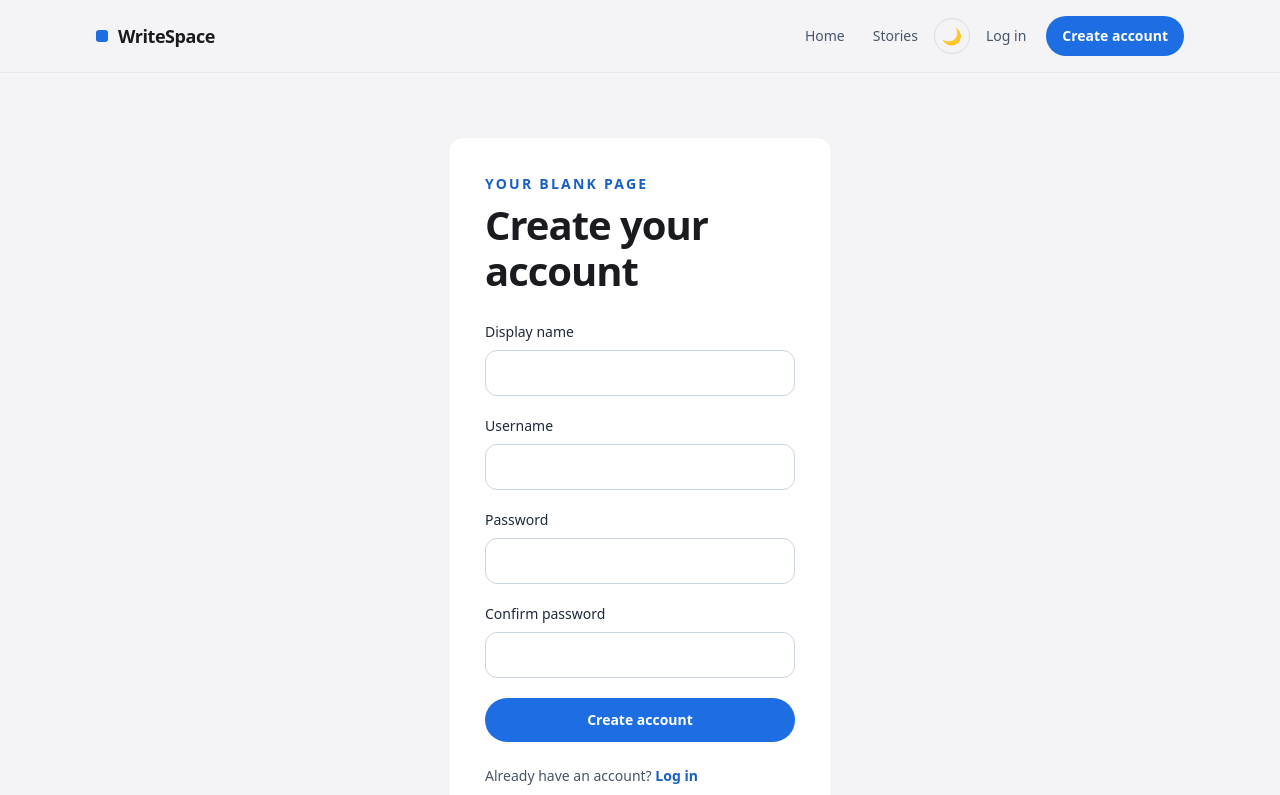
Test: access pages › shows matching-password validation when registration passwords differ
The width and height of the screenshot is (1280, 795).
Type "Ada" into the field labelled "Display name" at (640, 373), box left=485, top=350, right=795, bottom=396
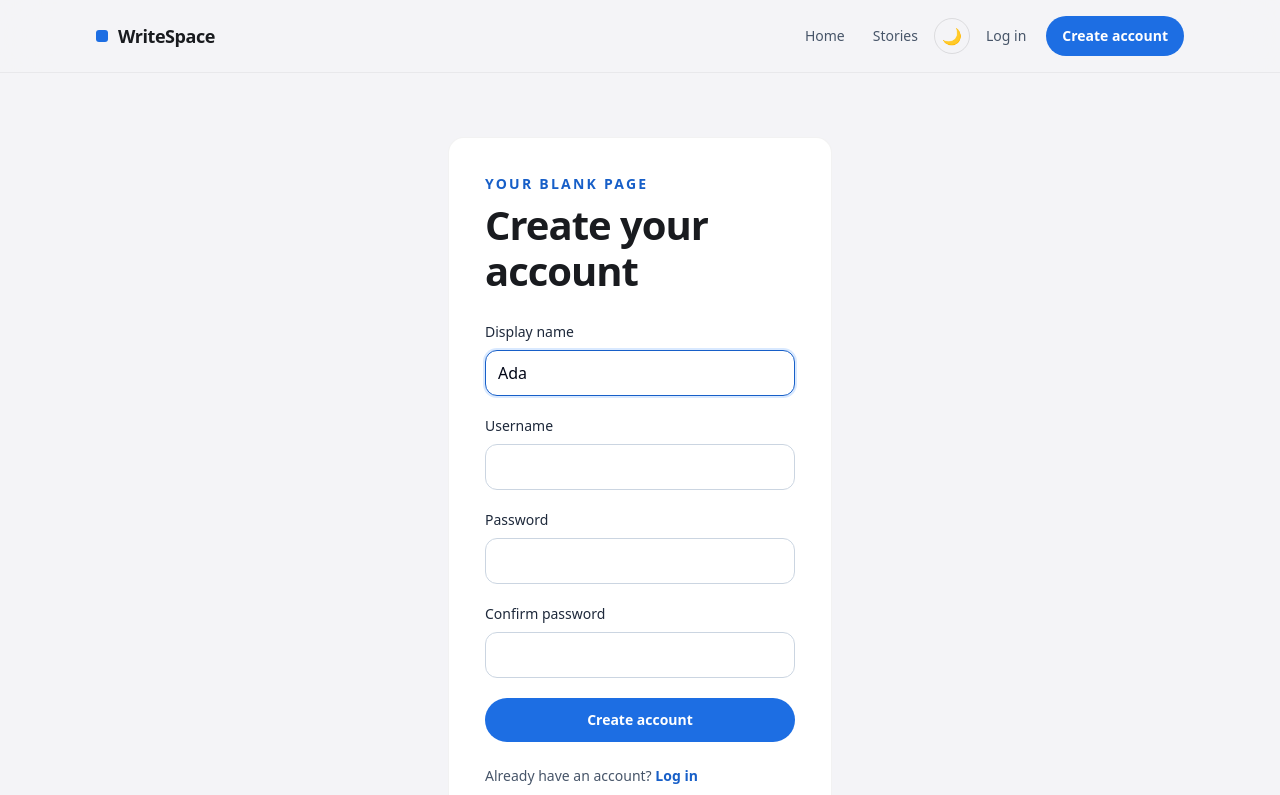
Type "ada" into the field labelled "Username" at (640, 467), box left=485, top=444, right=795, bottom=490
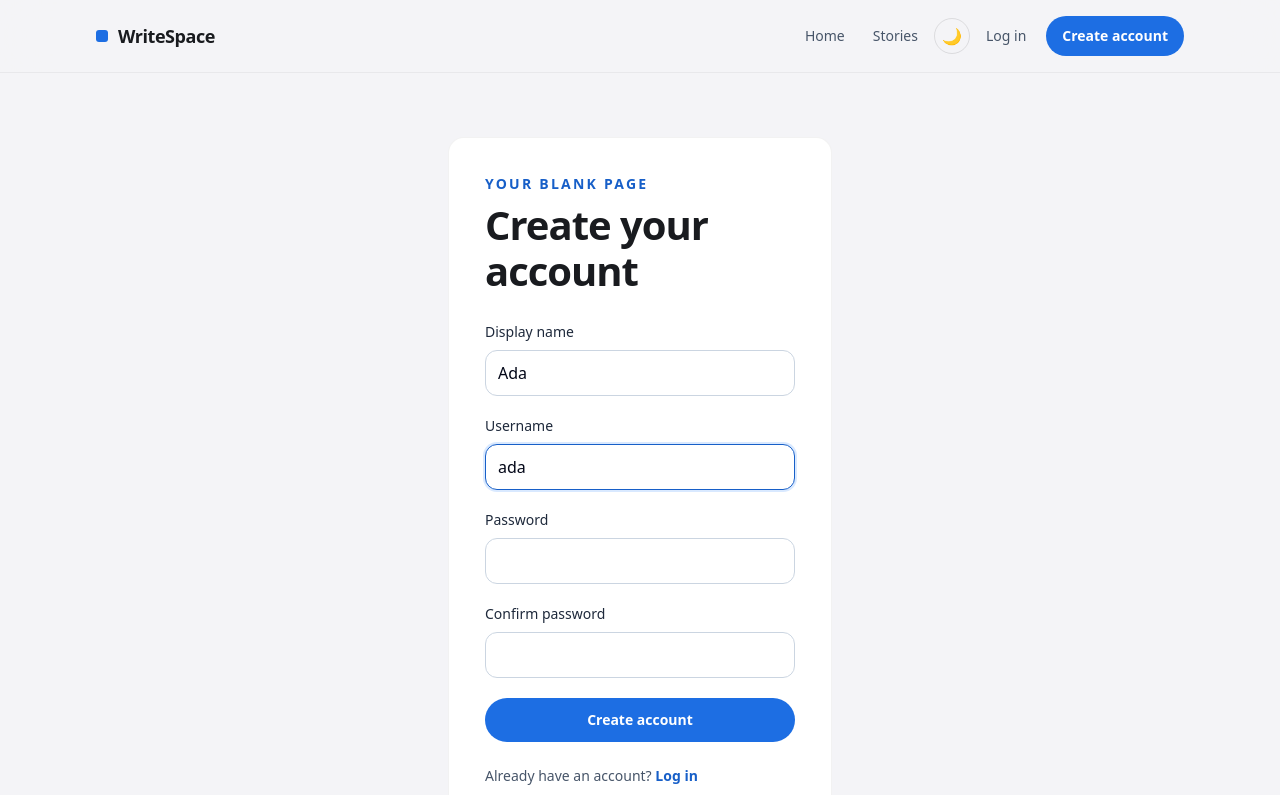
Type "one" into the password field labelled "Password" at (640, 561), box left=485, top=538, right=795, bottom=584
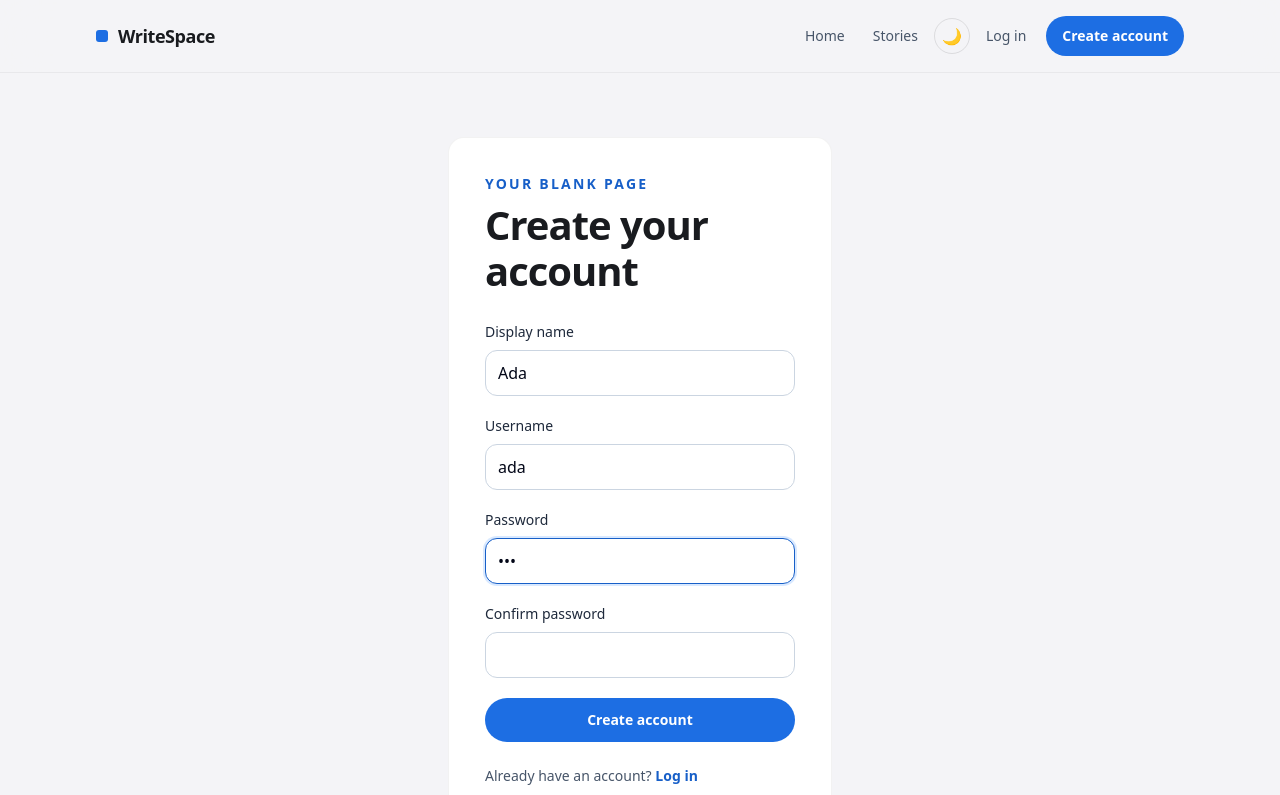
Type "two" into the password field labelled "Confirm password" at (640, 655), box left=485, top=632, right=795, bottom=678
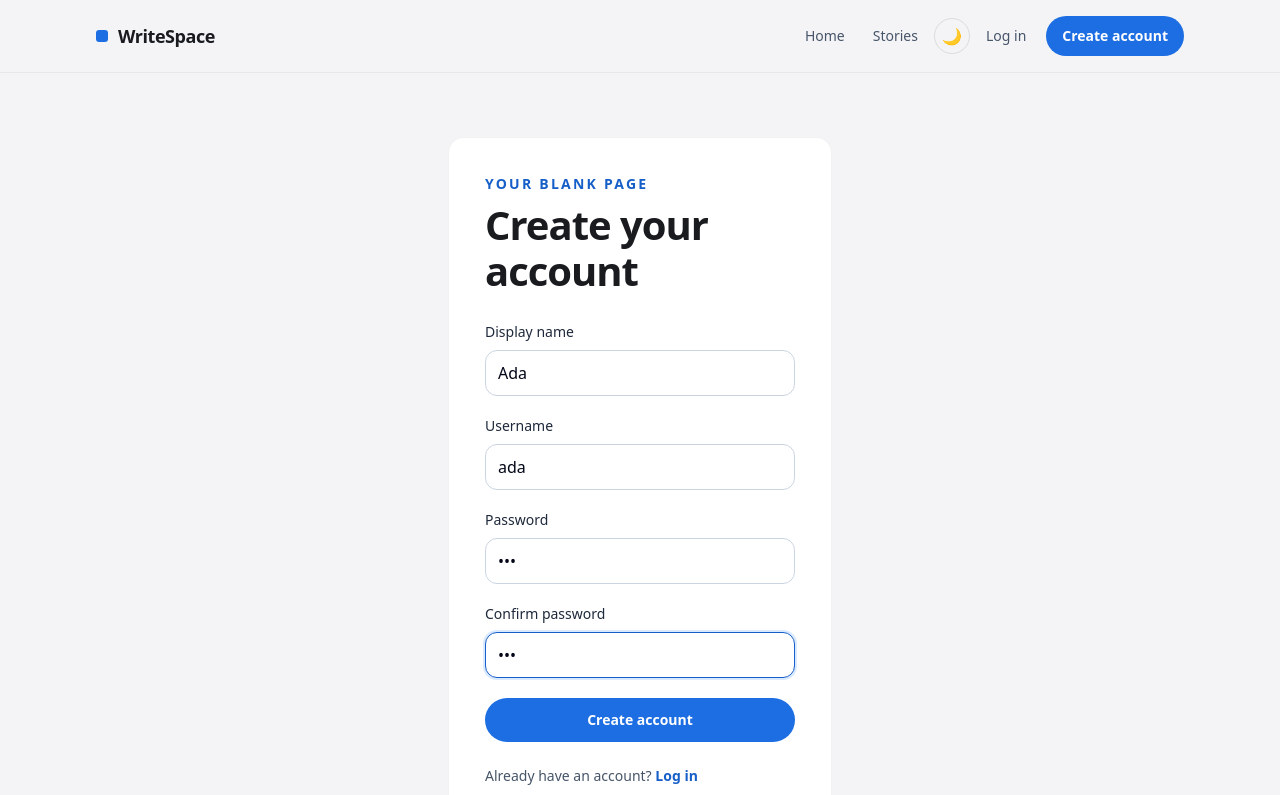
Click the button "Create account" at (640, 720), box left=485, top=698, right=795, bottom=742
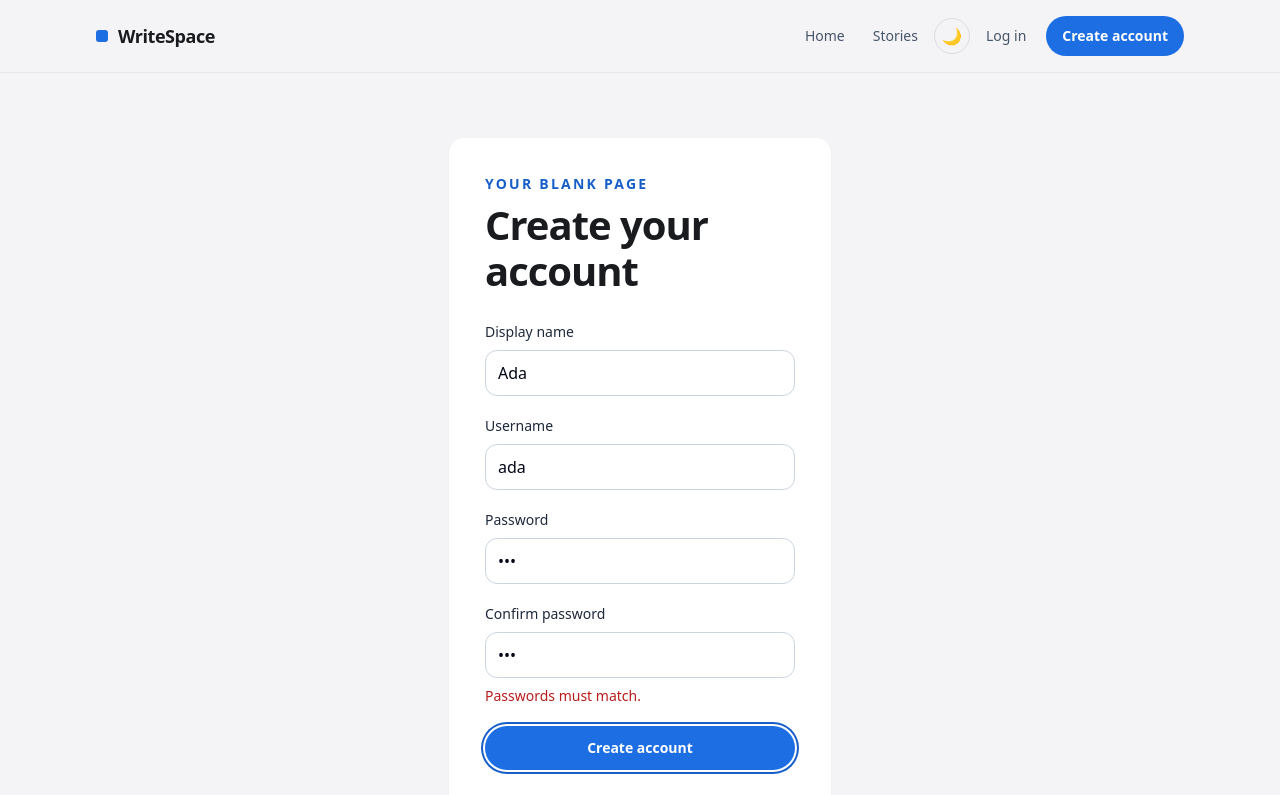
Expected: the text "Passwords must match." is shown, left=485, top=686, right=641, bottom=705
